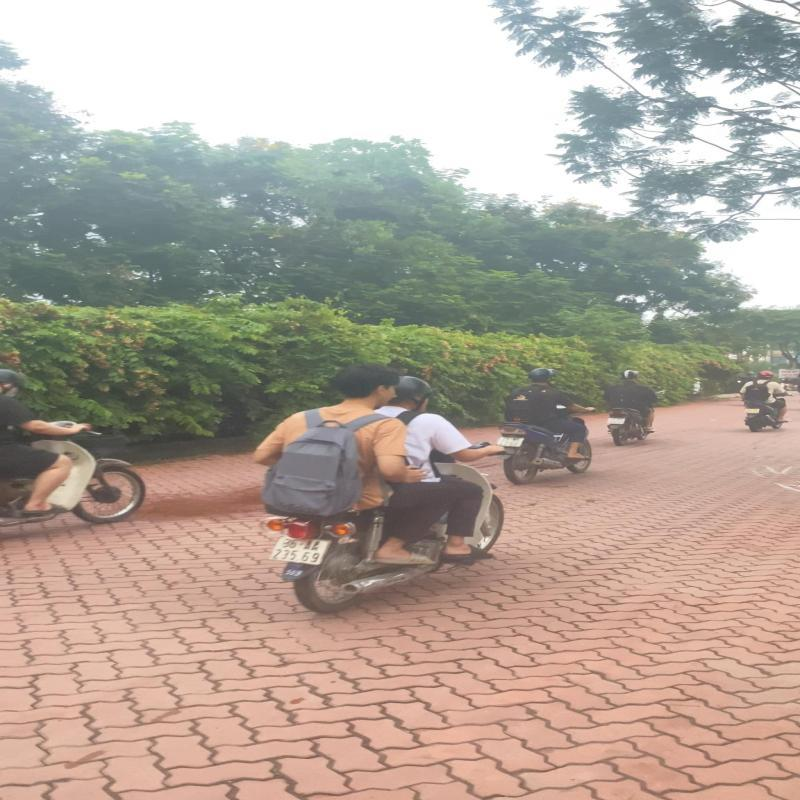helmet: (387, 374, 434, 410)
licenseplate: (266, 536, 330, 565)
motorcyclist: (248, 362, 515, 614)
nohelmet: (330, 364, 400, 403)
